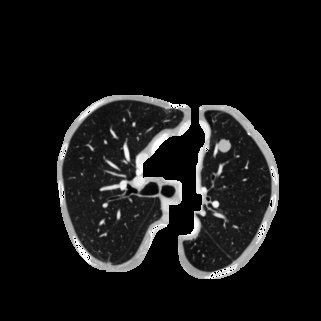PN: (218, 140, 230, 152)
